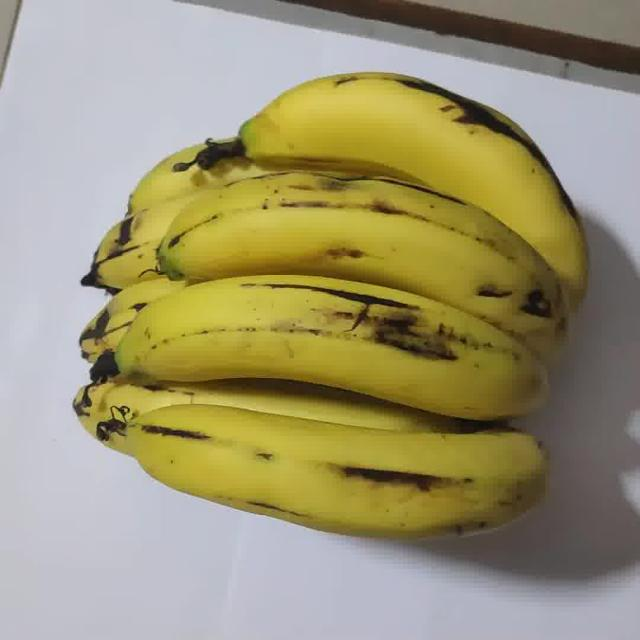banana_pacche: (62, 46, 615, 582)
